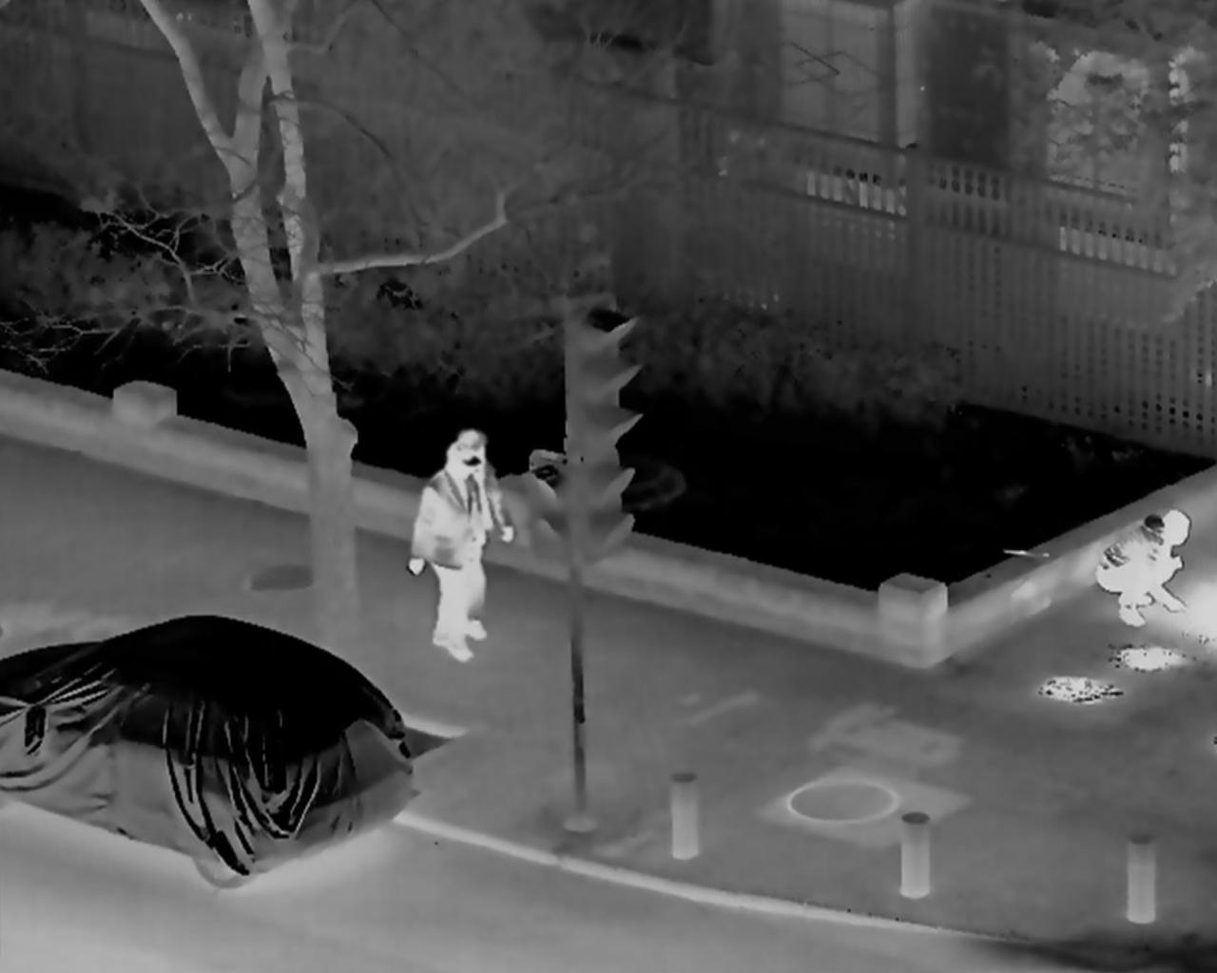person: (435, 431, 513, 631), (407, 445, 476, 660), (1091, 505, 1196, 637)
